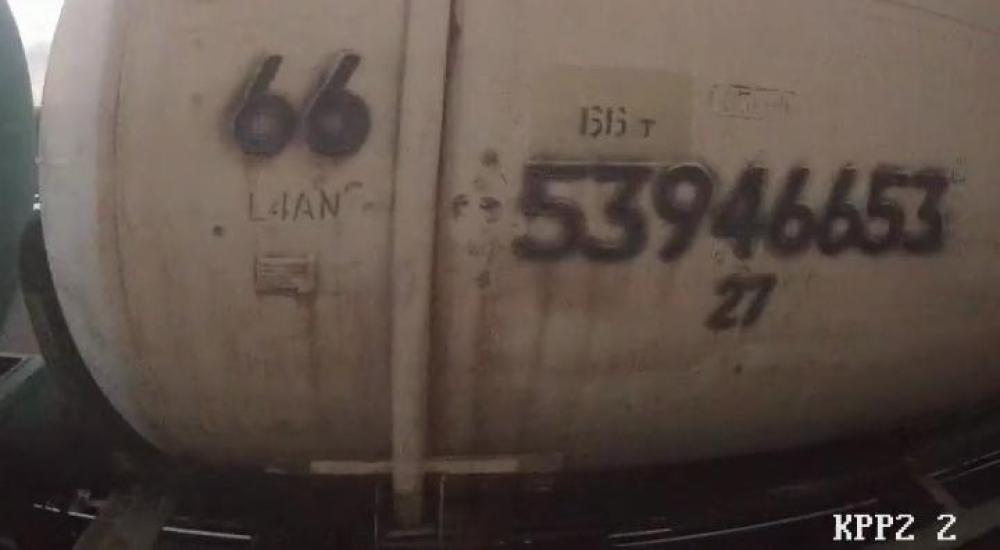Wagon-number: (504, 153, 954, 268)
